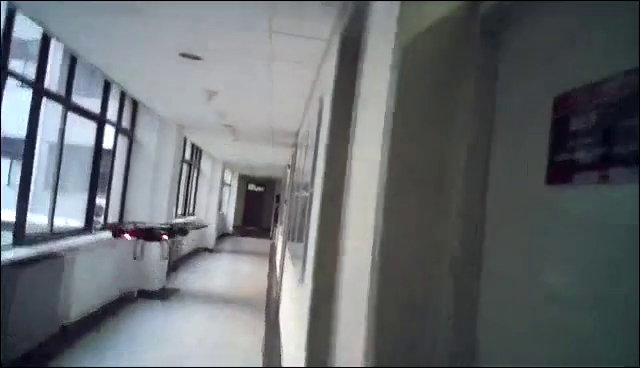drone: (94, 217, 210, 263)
